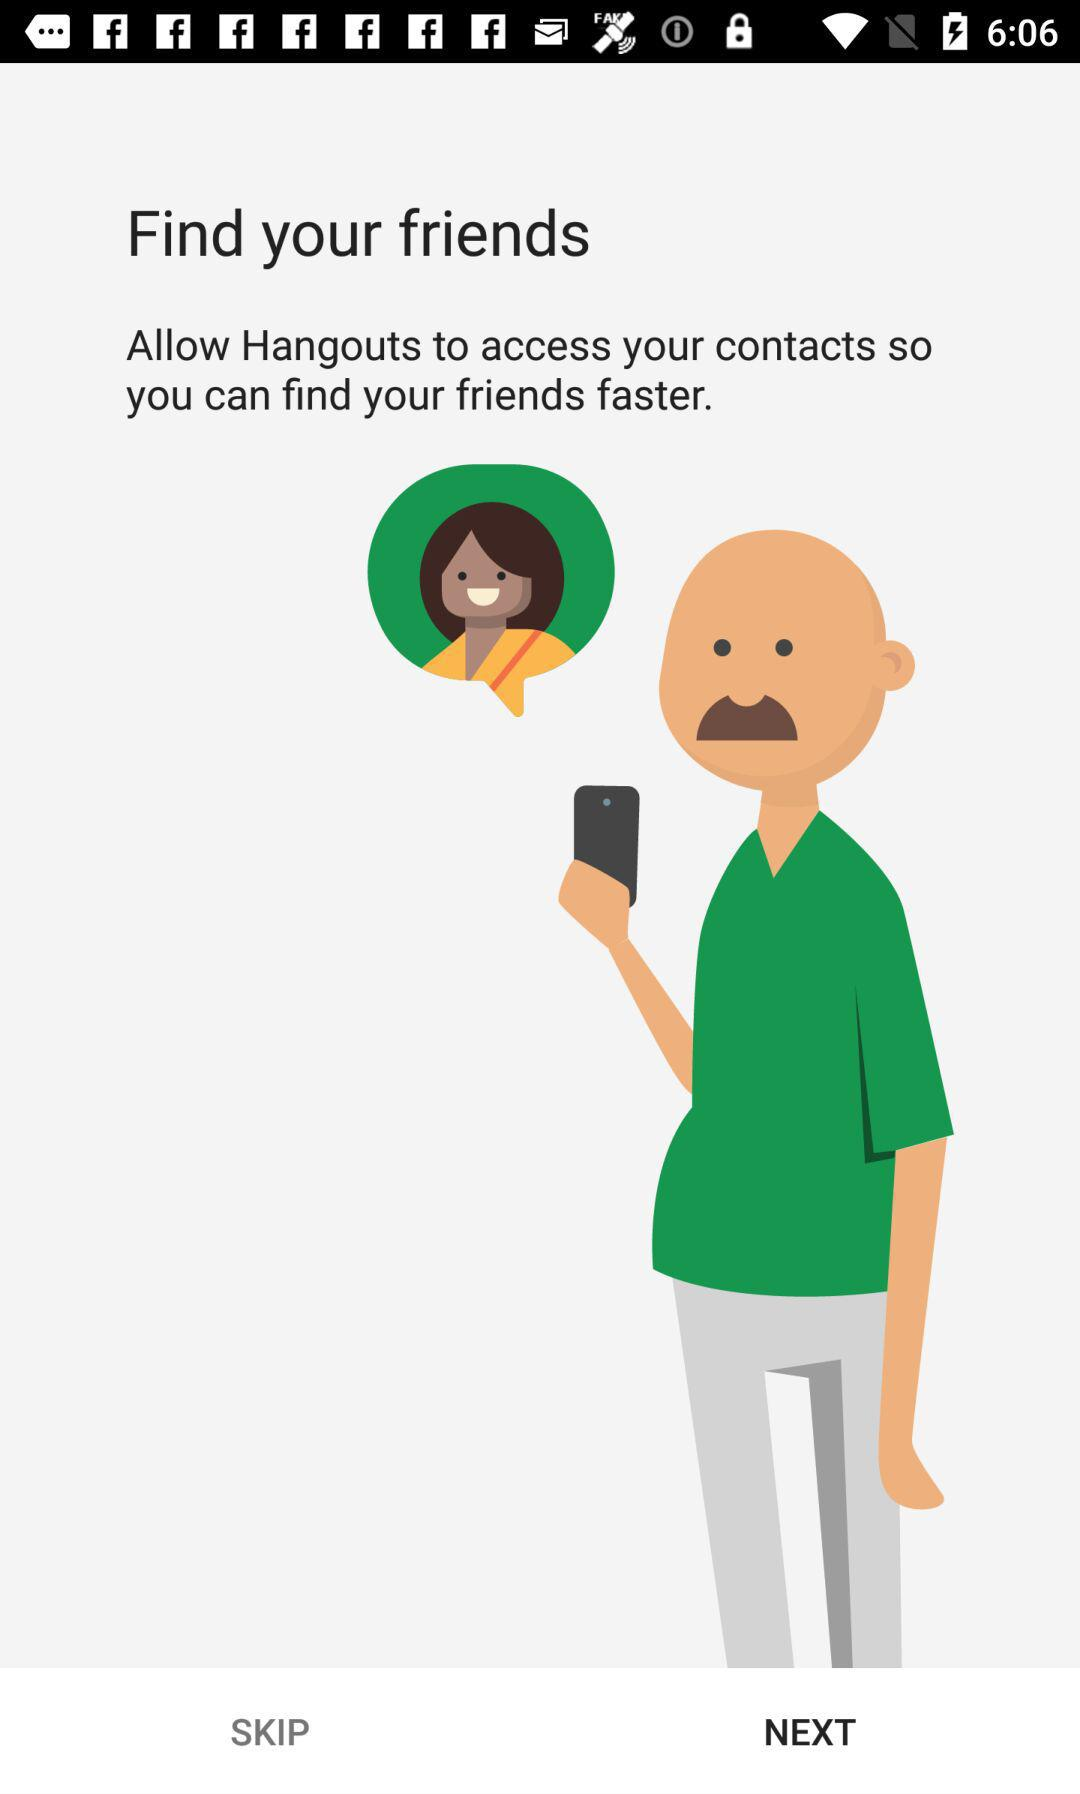Image: (366, 464, 957, 1668)
Text: (124, 327, 934, 422), (129, 208, 591, 272), (765, 1718, 857, 1747), (231, 1717, 311, 1748)
UpperTaskBar: (1, 1, 1080, 64)
